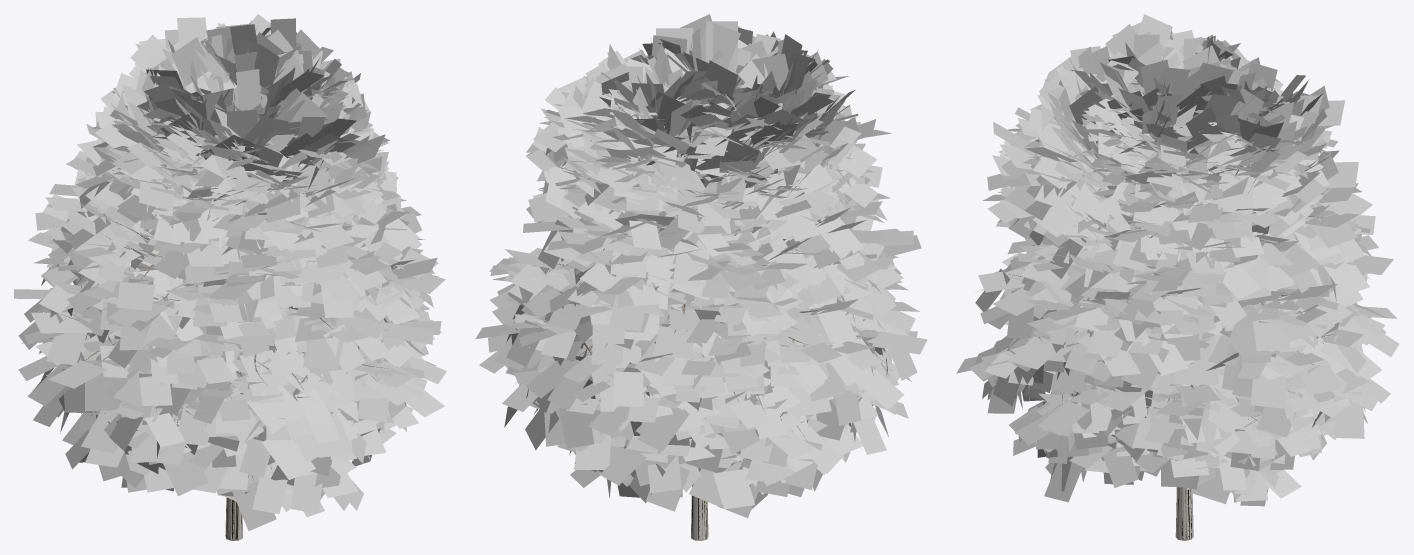
File: drzewoDEL3.fbx
The picture shows the model from 3 angles, left to right: view 1: azimuth 30°, elevation 25°; view 2: azimuth 150°, elevation 25°; view 3: azimuth 270°, elevation 25°; orthographic projection. The views are drawn at different scales.
Parts seen in each view (by area): view 1: leaves, tree; view 2: leaves, tree; view 3: leaves, tree.
Part boxes in pixels (bbox=[...]): leaves: bbox=[14, 14, 446, 530]; tree: bbox=[58, 88, 389, 540]; leaves: bbox=[475, 14, 927, 518]; tree: bbox=[535, 199, 885, 540]; leaves: bbox=[956, 14, 1399, 506]; tree: bbox=[1006, 121, 1336, 540].
Bounding box in the file's own units: 1046 × 1243 × 1023.
